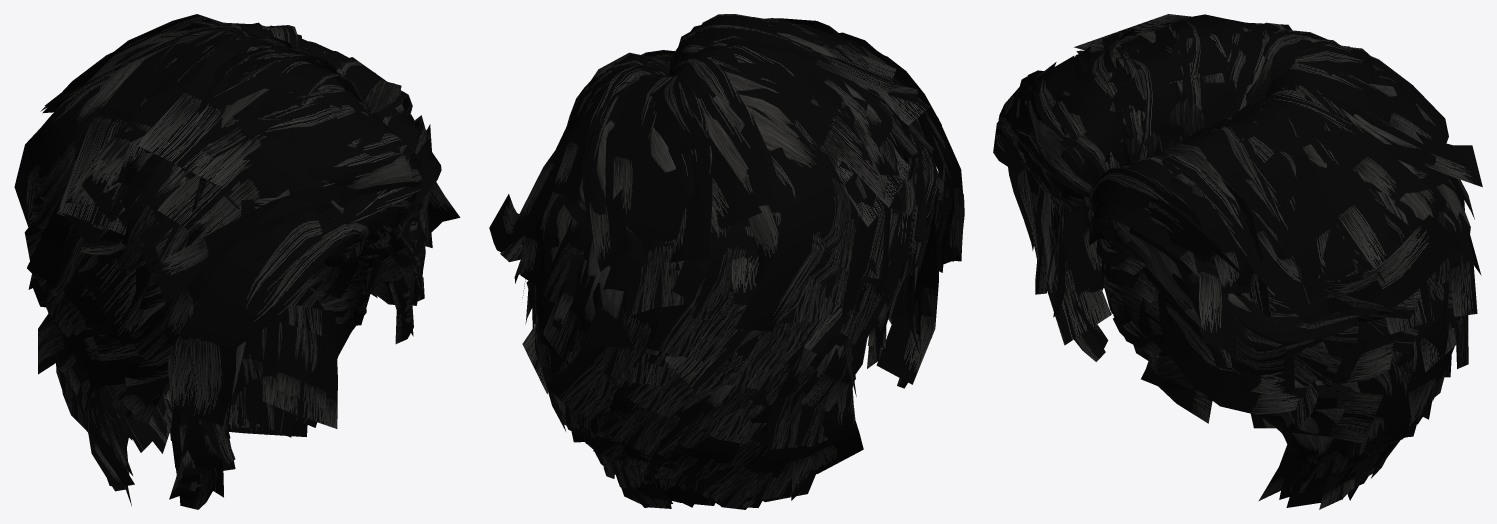
File: Hair11.fbx
3 views of the same model, side by side, from view 1: azimuth 30°, elevation 25°; view 2: azimuth 150°, elevation 25°; view 3: azimuth 270°, elevation 25° (orthographic). The views are drawn at different scales.
Visible parts, largest first — view 1: avaturn_hair_1, avaturn_hair_0; view 2: avaturn_hair_1, avaturn_hair_0; view 3: avaturn_hair_1, avaturn_hair_0.
Boxes of the visible parts, x1,y1,x2,y2 form: avaturn_hair_1: [14, 14, 460, 509]; avaturn_hair_0: [28, 158, 414, 506]; avaturn_hair_1: [489, 14, 964, 509]; avaturn_hair_0: [514, 65, 917, 508]; avaturn_hair_1: [993, 14, 1482, 509]; avaturn_hair_0: [1074, 117, 1468, 500].
Bounding box in the file's own units: 22.82 × 25.94 × 25.39.
